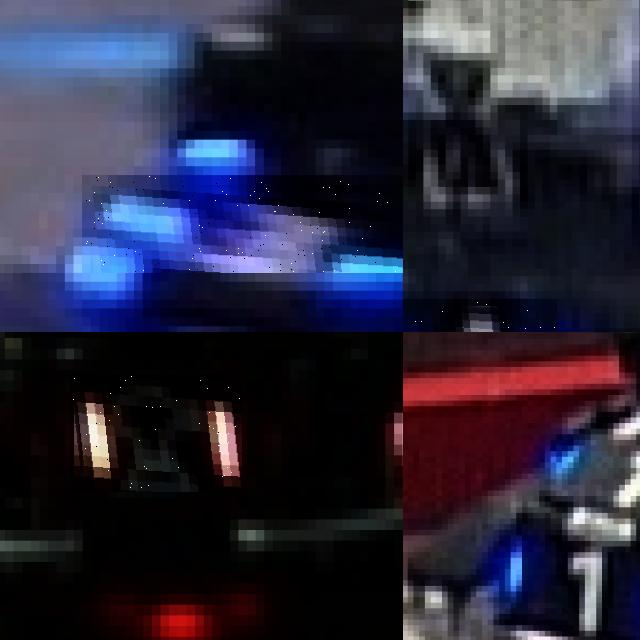B1: (505, 541, 640, 640), (533, 417, 640, 524)
B3: (82, 175, 403, 273)
Rs: (70, 374, 242, 492)
